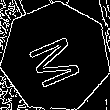M_NE: (24, 26, 87, 88)
